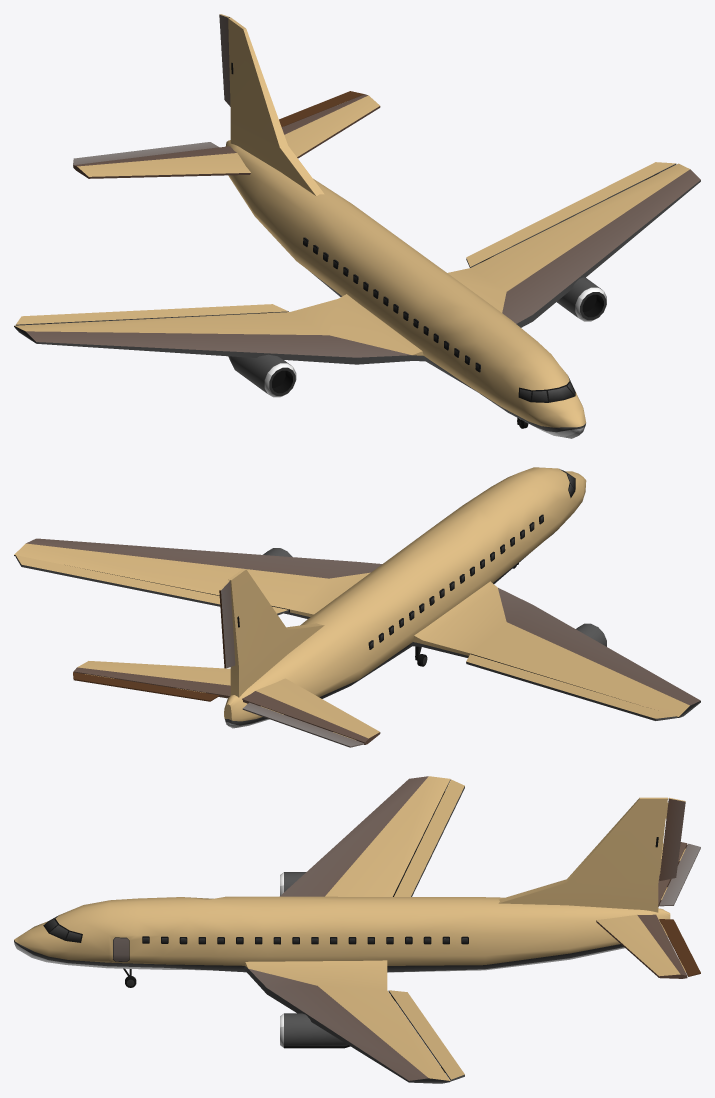
File: FeiJi001.fbx
The picture shows the model from 3 angles, top to bottom: view 1: azimuth 30°, elevation 25°; view 2: azimuth 150°, elevation 25°; view 3: azimuth 270°, elevation 25°; orthographic projection. The views are drawn at different scales.
Parts seen in each view (by area): view 1: FeiJi001; view 2: FeiJi001; view 3: FeiJi001.
Part boxes in pixels (<box>): FeiJi001: <box>14,14,700,438</box>; FeiJi001: <box>14,467,700,747</box>; FeiJi001: <box>14,776,700,1083</box>.
Size of the model in its own units: 4543 by 1308 by 4365.
